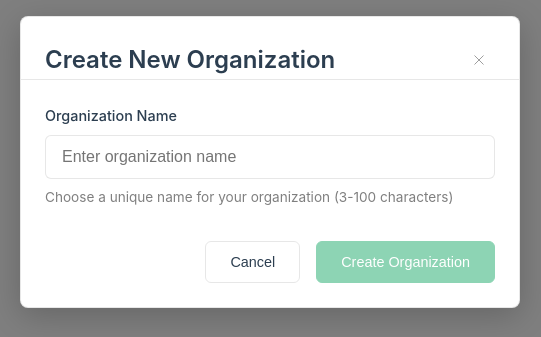
Test: CreateOrganization › Form Validation › should validate minimum length requirement
The width and height of the screenshot is (541, 337).
// Test with 2 characters (below minimum)
Type "ab" into the field labelled "Organization Name" at {"x": 270, "y": 157}, box [45,135,495,179]
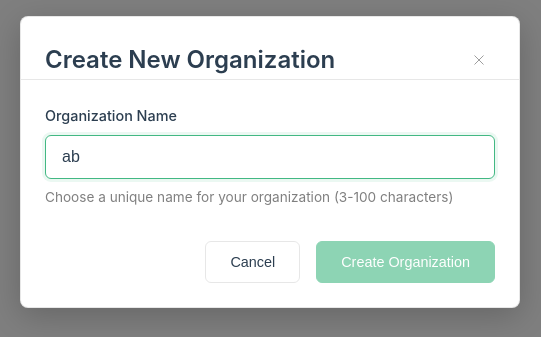
Check: the submit button is disabled, box [316,241,495,283]
// Test with 3 characters (minimum)
Replace the text in the field labelled "Organization Name" with "abc" at {"x": 270, "y": 157}, box [45,135,495,179]
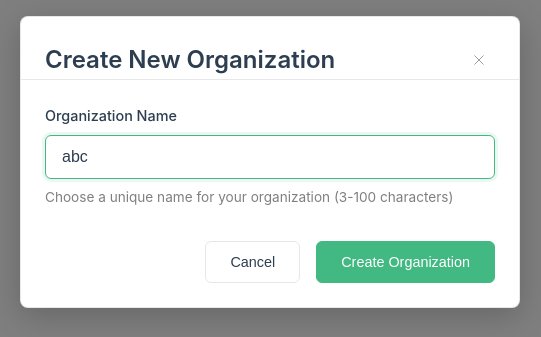
Check: the submit button is enabled, box [316,241,495,283]
